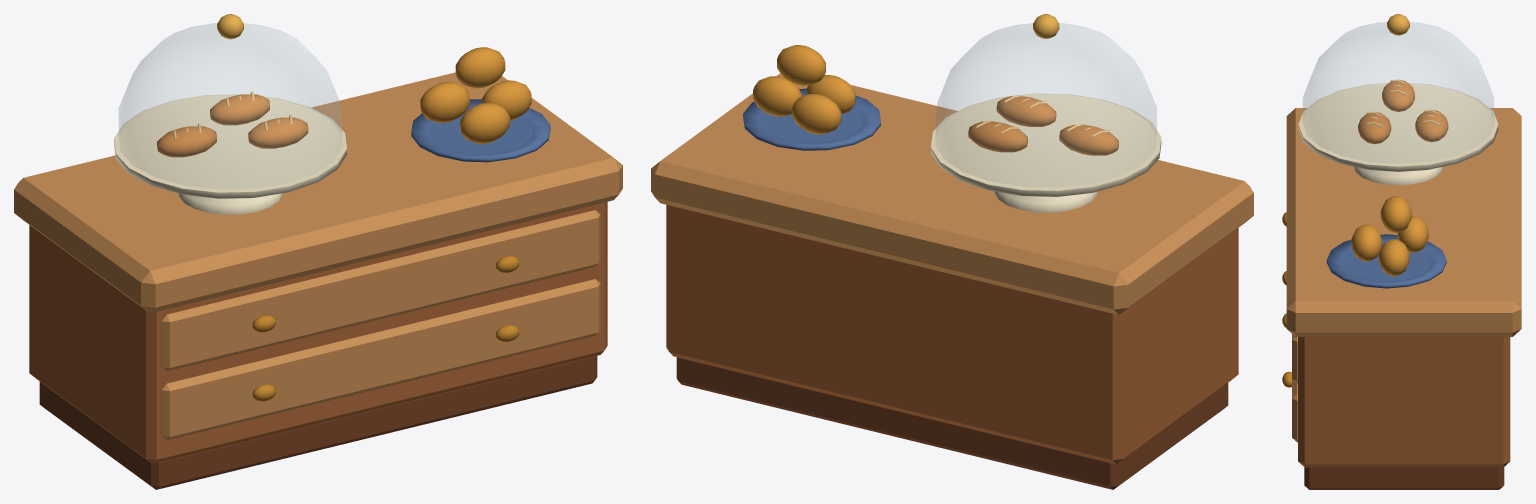
Rendered from service-sideboard.glb.
3 views of the same model, side by side, from view 1: azimuth 30°, elevation 25°; view 2: azimuth 150°, elevation 25°; view 3: azimuth 270°, elevation 25° (orthographic). The views are drawn at different scales.
Parts seen in each view (by area): view 1: service-sideboard Furniture, service-sideboard Glass; view 2: service-sideboard Furniture, service-sideboard Glass; view 3: service-sideboard Furniture, service-sideboard Glass.
Part boxes in pixels (x1,y1,x2,y2): service-sideboard Furniture: [14, 14, 622, 489]; service-sideboard Glass: [119, 23, 341, 188]; service-sideboard Furniture: [651, 14, 1253, 489]; service-sideboard Glass: [936, 23, 1156, 186]; service-sideboard Furniture: [1282, 14, 1521, 489]; service-sideboard Glass: [1303, 22, 1493, 163].
Bounding box in the file's own units: 1.9 × 1.53 × 0.9578.
